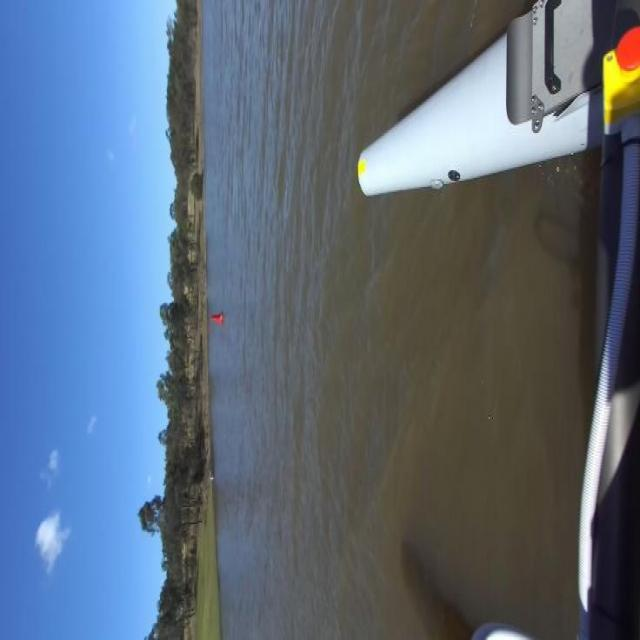Red_Buoy: (208, 309, 232, 331)
